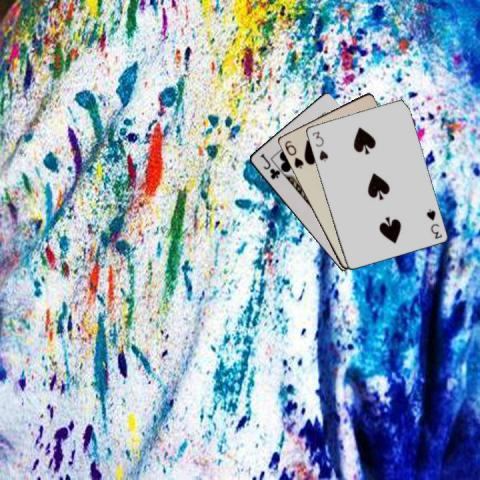3s: (423, 205, 444, 240), (309, 128, 329, 162)
6s: (281, 137, 305, 170)
Jc: (256, 150, 280, 180)
